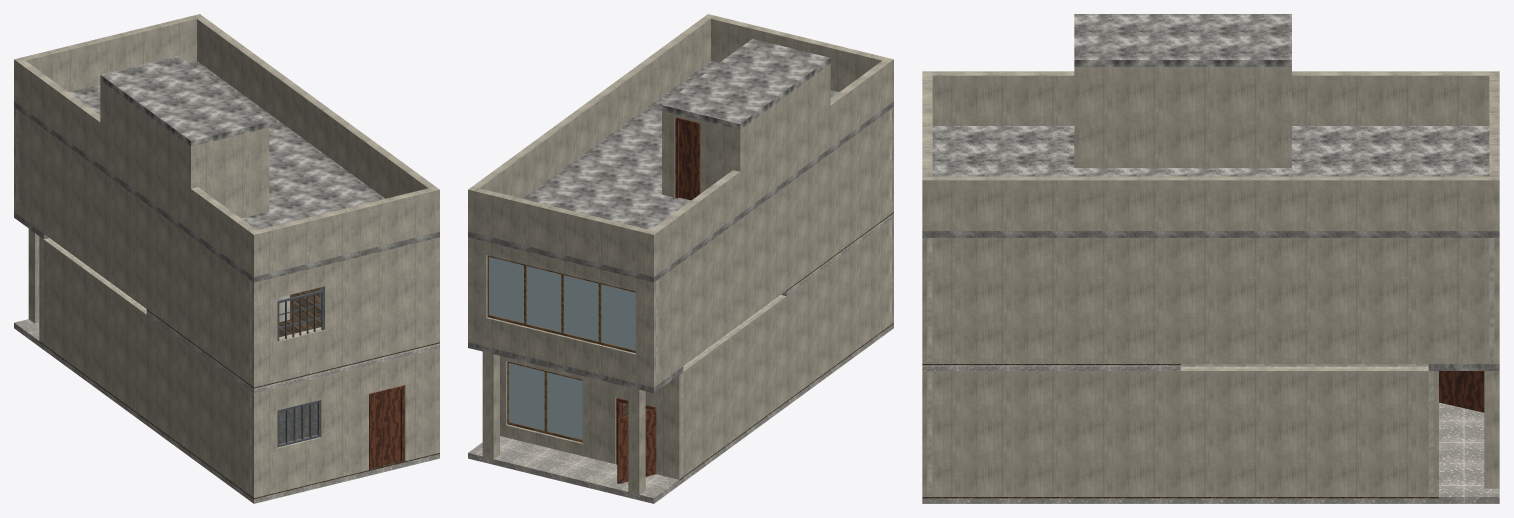
The model's file is rowhouse_1960.fbx.
3 renders of one model, left to right at view 1: azimuth 30°, elevation 25°; view 2: azimuth 150°, elevation 25°; view 3: azimuth 270°, elevation 25°, orthographic. The views are drawn at different scales.
Parts seen in each view (by area): view 1: rowhouse_1960; view 2: rowhouse_1960; view 3: rowhouse_1960.
Part boxes in pixels (box(x1,y1,x2,y2)): rowhouse_1960: box(14, 14, 439, 503); rowhouse_1960: box(468, 14, 893, 503); rowhouse_1960: box(922, 14, 1499, 503).
Size of the model in its own units: 510 by 830 by 1140.
